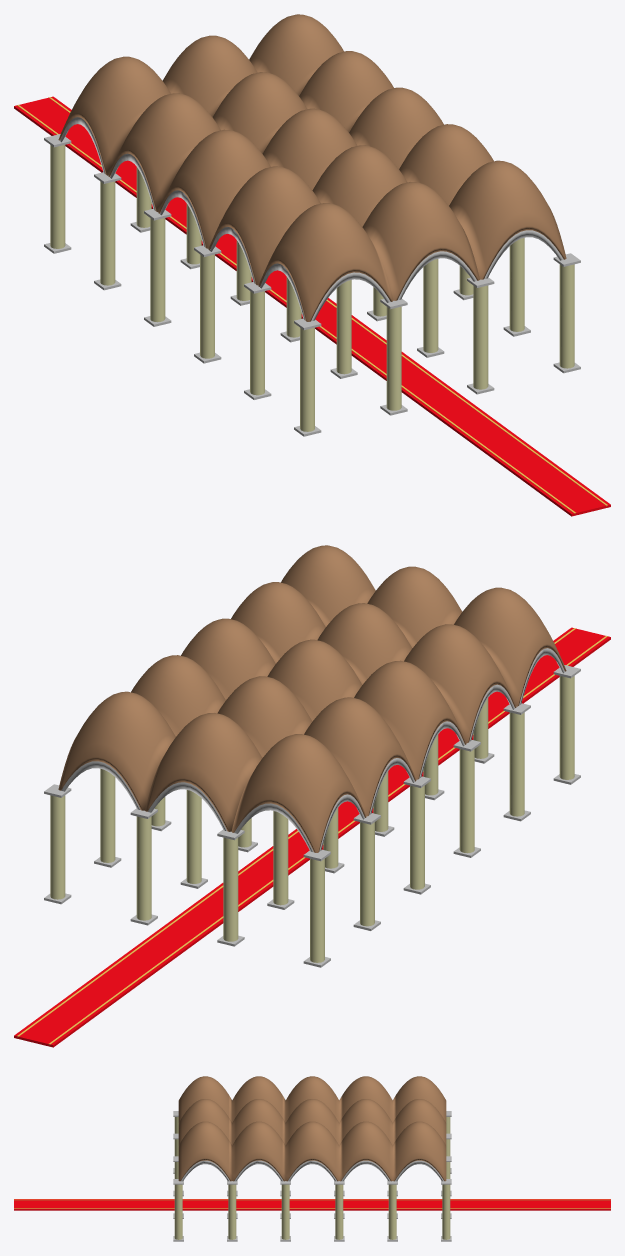
Rendered from Palace.glb.
3 views of the same model, one above another, from view 1: azimuth 30°, elevation 25°; view 2: azimuth 150°, elevation 25°; view 3: azimuth 270°, elevation 25° (orthographic). The views are drawn at different scales.
Visible parts, largest first — view 1: 平面.001; view 2: 平面.001; view 3: 平面.001.
Boxes of the visible parts, x1,y1,x2,y2 form: 平面.001: [14, 14, 610, 516]; 平面.001: [14, 545, 610, 1047]; 平面.001: [14, 1076, 610, 1241].
Size of the model in its own units: 6.4 by 4.34 by 22.32.
